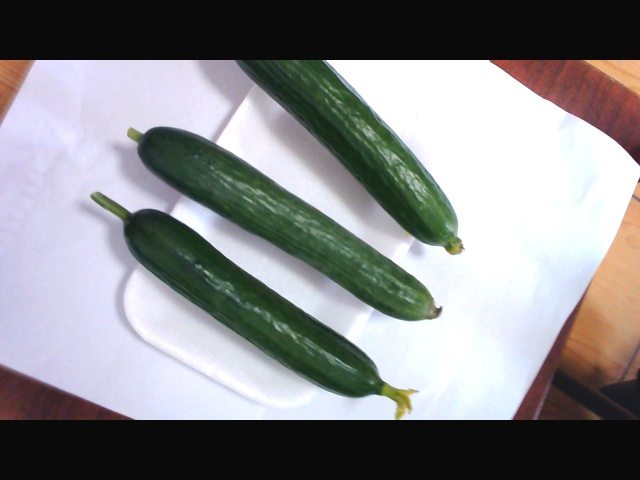cucumber: (95, 59, 454, 415)
